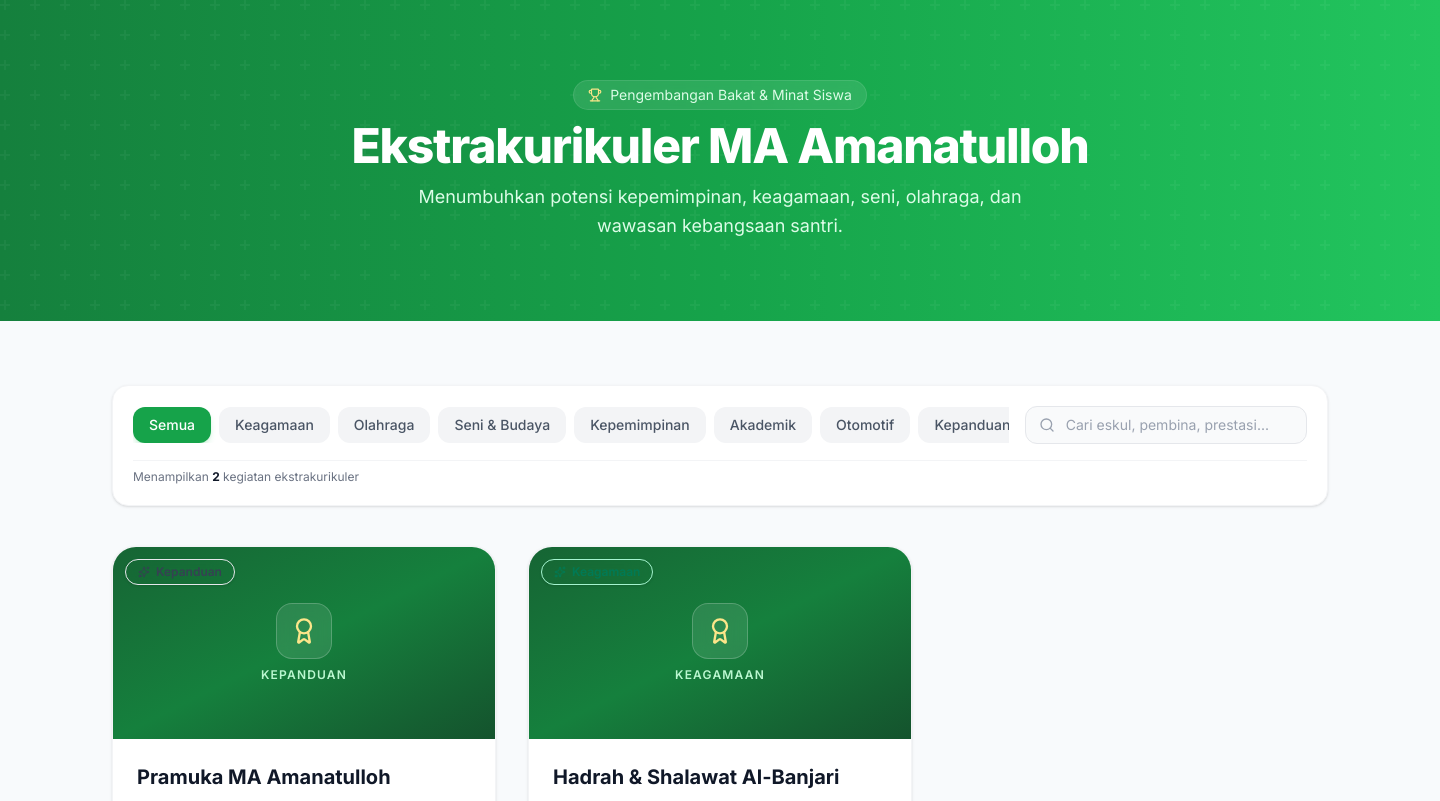
Ekstrakurikuler Page › memfilter ekstrakurikuler berdasarkan kategori
// Click 'Keagamaan' tab button
Click the button "Keagamaan" at [274, 424], box [219,406,330,442]
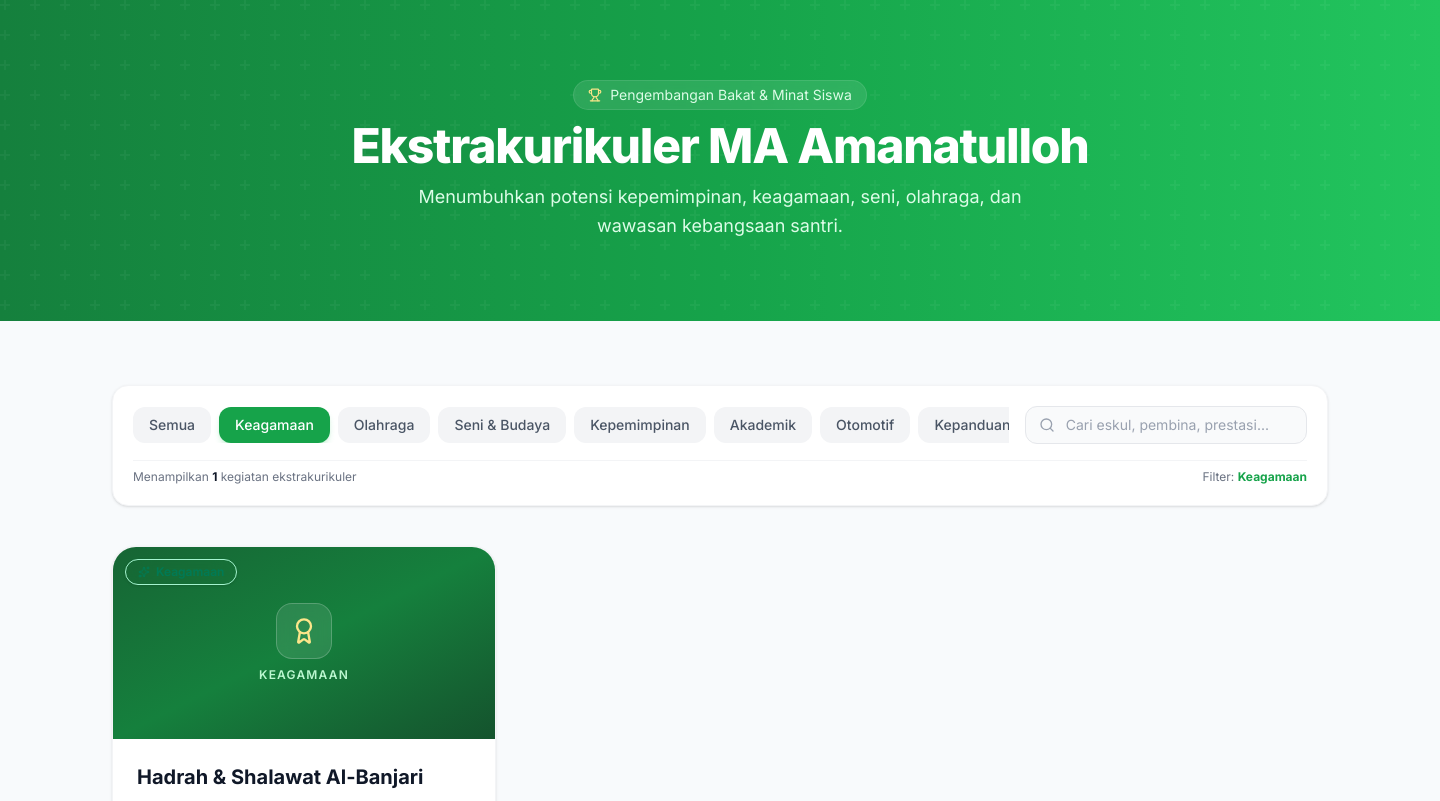
Expected: the heading "Hadrah & Shalawat Al-Banjari" is shown, [137,762,471,790]
Now the heading "Pramuka MA Amanatulloh" is gone
